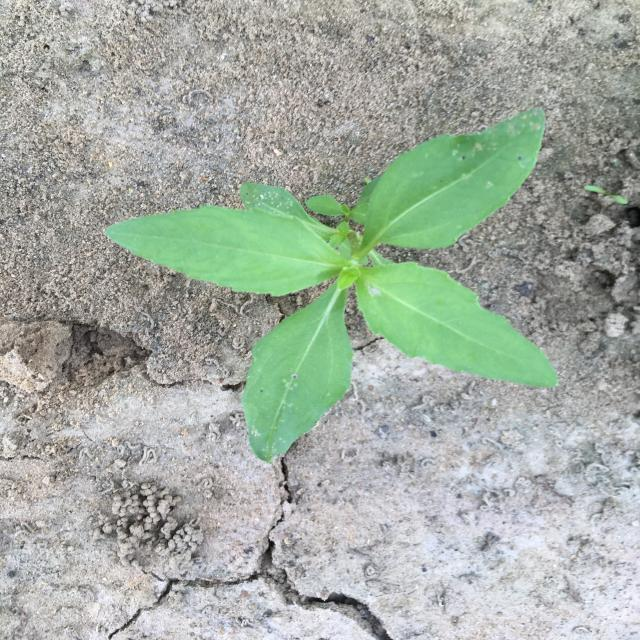Eclipta: (104, 107, 559, 464)
